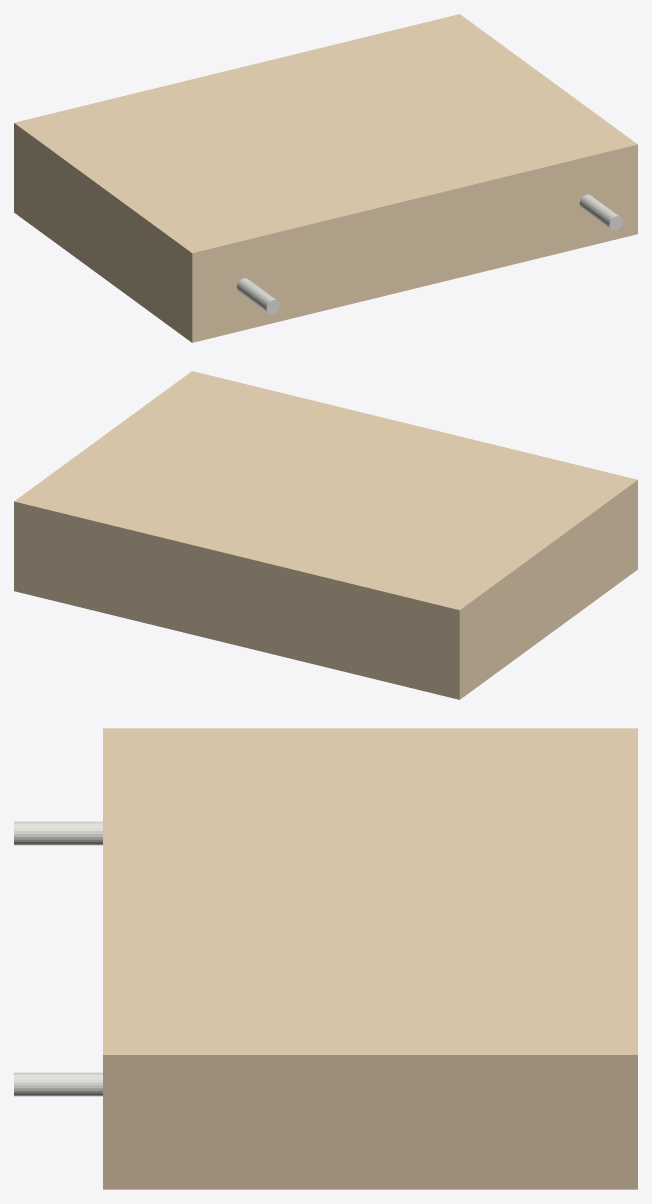
3 renders of one model, top to bottom at view 1: azimuth 30°, elevation 25°; view 2: azimuth 150°, elevation 25°; view 3: azimuth 270°, elevation 25°, orthographic. The views are drawn at different scales.
Parts seen in each view (by area): view 1: Shape_IndexedFaceSet.005, Shape_IndexedFaceSet.002, Shape_IndexedFaceSet.004, Shape_IndexedFaceSet.007, Shape_IndexedFaceSet.006; view 2: Shape_IndexedFaceSet.005, Shape_IndexedFaceSet.001, Shape_IndexedFaceSet.004; view 3: Shape_IndexedFaceSet.005, Shape_IndexedFaceSet.003, Shape_IndexedFaceSet.006, Shape_IndexedFaceSet.007.
Part boxes in pixels (x1=…): Shape_IndexedFaceSet.005: x1=14, y1=14, x2=637, y2=253; Shape_IndexedFaceSet.002: x1=192, y1=144, x2=637, y2=342; Shape_IndexedFaceSet.004: x1=14, y1=123, x2=192, y2=342; Shape_IndexedFaceSet.007: x1=579, y1=194, x2=619, y2=228; Shape_IndexedFaceSet.006: x1=236, y1=278, x2=276, y2=312; Shape_IndexedFaceSet.005: x1=14, y1=371, x2=637, y2=610; Shape_IndexedFaceSet.001: x1=14, y1=501, x2=459, y2=699; Shape_IndexedFaceSet.004: x1=459, y1=480, x2=637, y2=699; Shape_IndexedFaceSet.005: x1=103, y1=728, x2=637, y2=1054; Shape_IndexedFaceSet.003: x1=103, y1=1055, x2=637, y2=1189; Shape_IndexedFaceSet.006: x1=14, y1=821, x2=102, y2=845; Shape_IndexedFaceSet.007: x1=14, y1=1072, x2=102, y2=1096.
Size of the model in its own units: 10.24 by 1.97 by 8.27.
